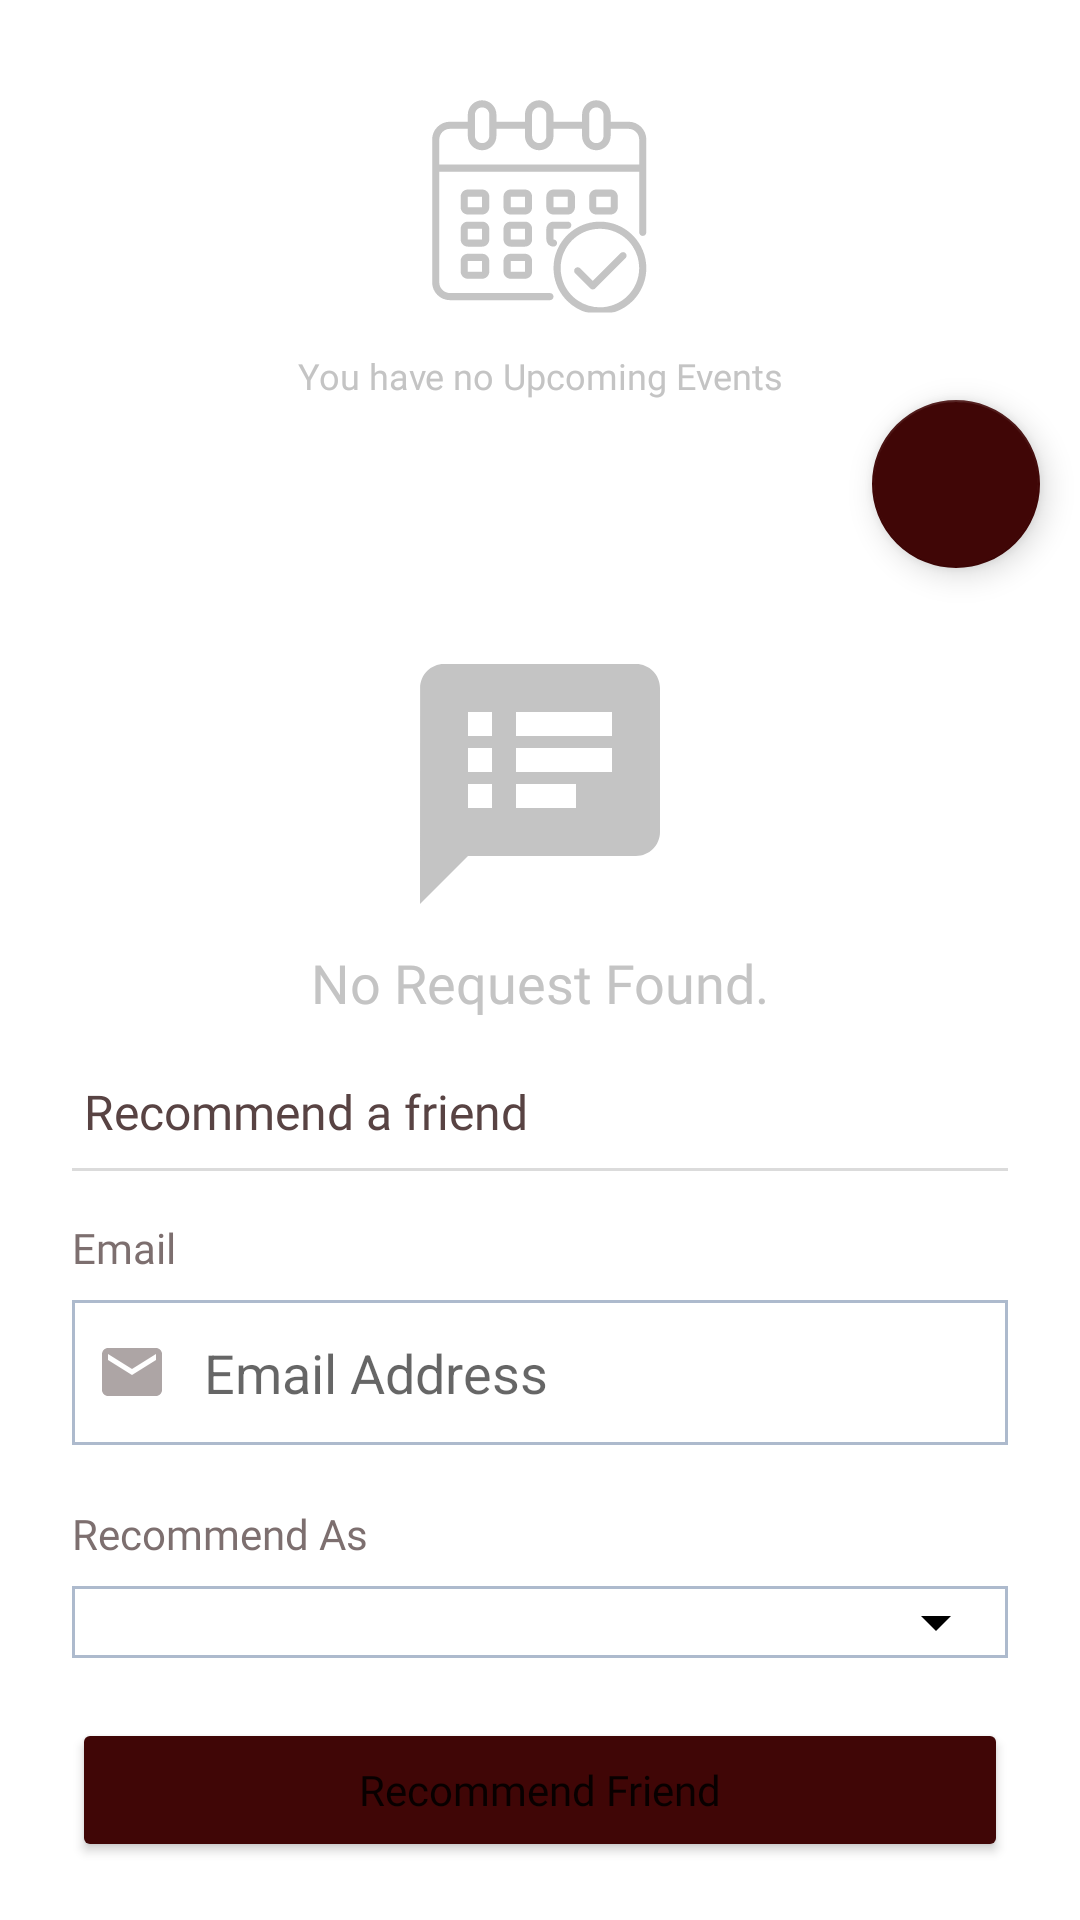

Icons on this 1080×1920 Android screen, each with its box as (x1, y1, x2, y2):
calendar: (432, 100, 646, 313)
